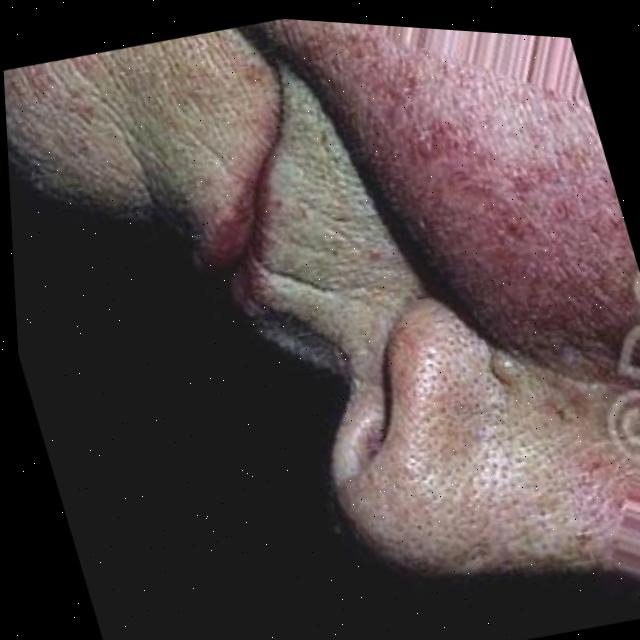Rosacea: (371, 25, 640, 334)
